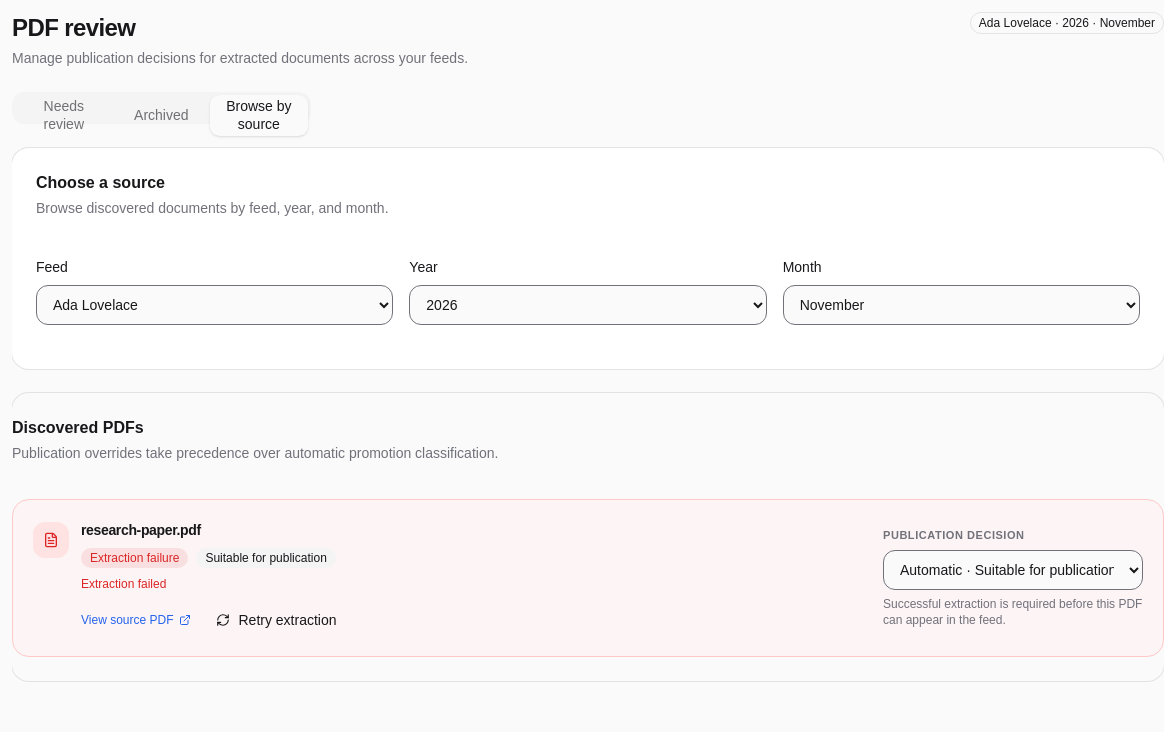
classification and extraction presentation › explains extraction eligibility and retries a failed PDF
The width and height of the screenshot is (1164, 732).
Check: the text "Extraction failure" is shown, box [81,548,188,568]
Check: the text "Extraction failed" is shown, box [81,577,166,591]
Click the button "Retry extraction". click: (276, 620)
box: [208,604,346,636]
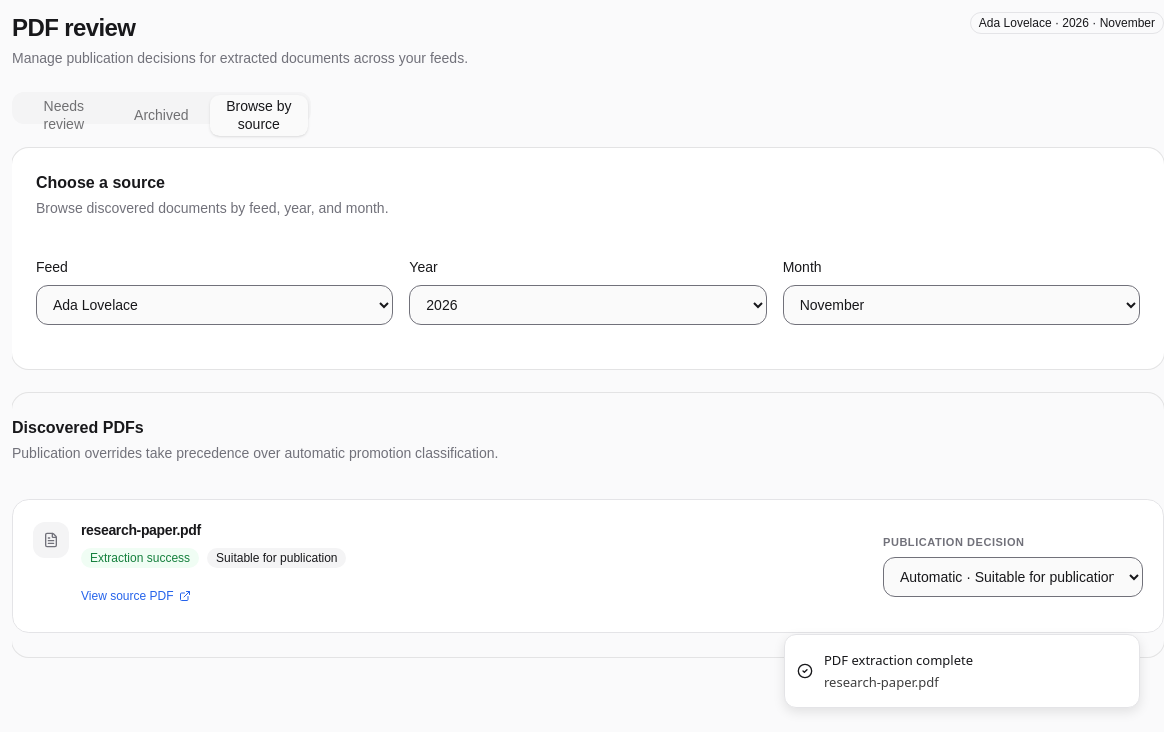
Check: the text "Extraction success" is shown, box [81,548,199,568]
Check: the text "Extraction failed" is gone
Check: the text "Successful extraction is required" is gone
